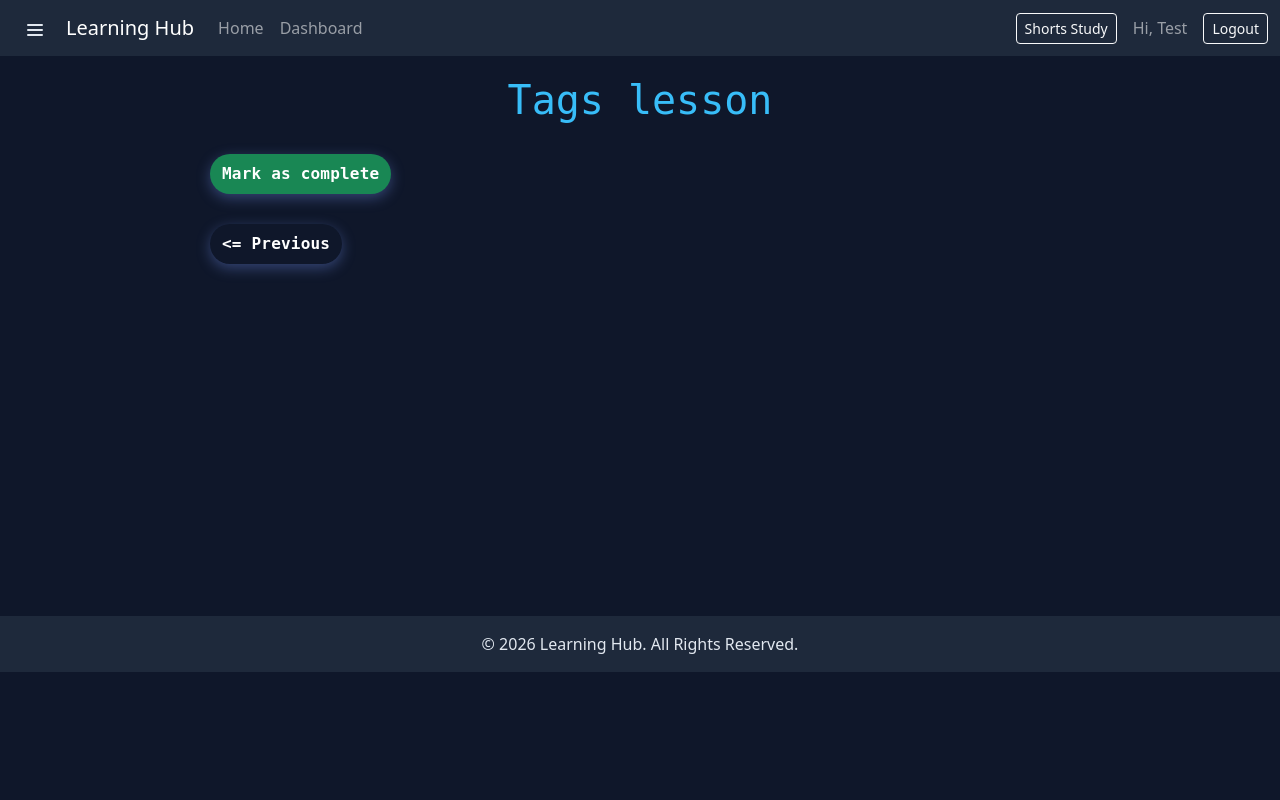
Scenario: progress in the lesson pages › keeps the button and shows an error when saving fails
Click the button "Mark as complete": (301, 174) [210, 154, 391, 194]
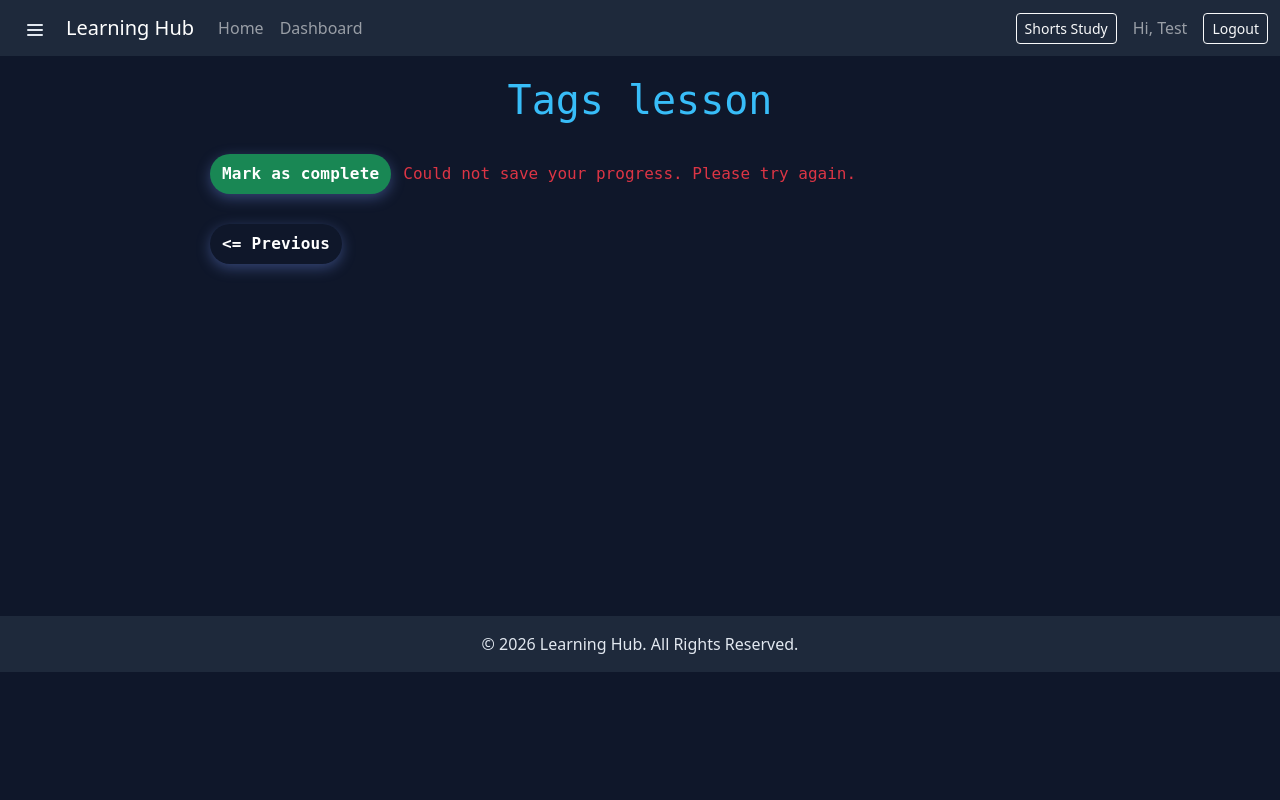
Expected: the message shows "Could not save", [403, 164, 856, 183]
